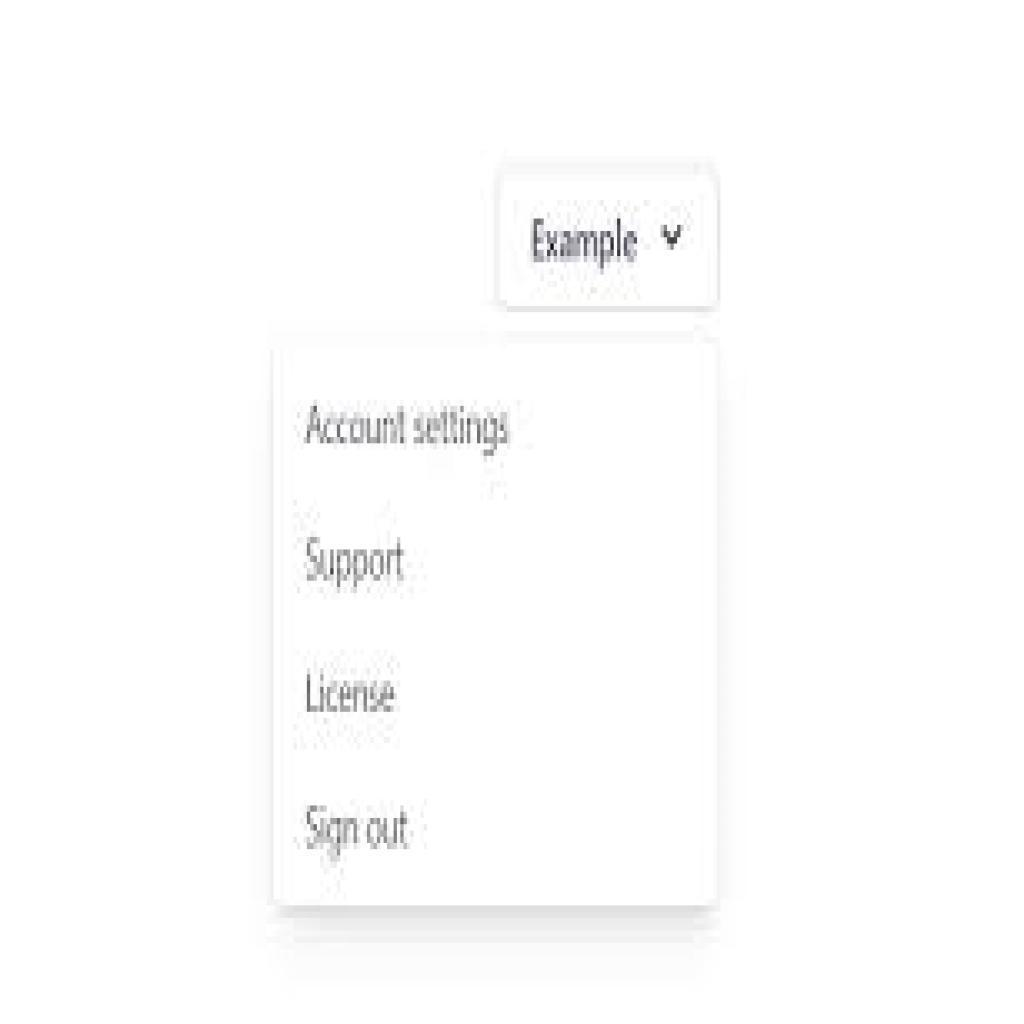dropdown: (498, 171, 719, 312)
label: (296, 397, 511, 458), (294, 529, 418, 593), (301, 799, 414, 866), (301, 657, 410, 723)
